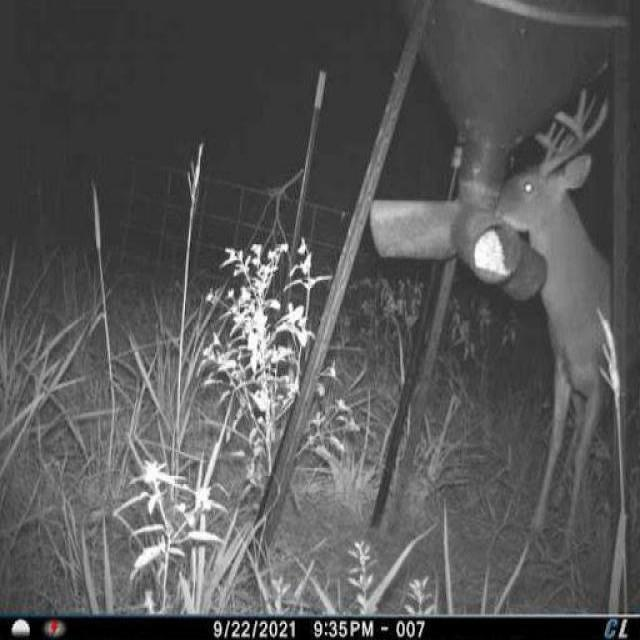deer: (489, 80, 619, 555)
